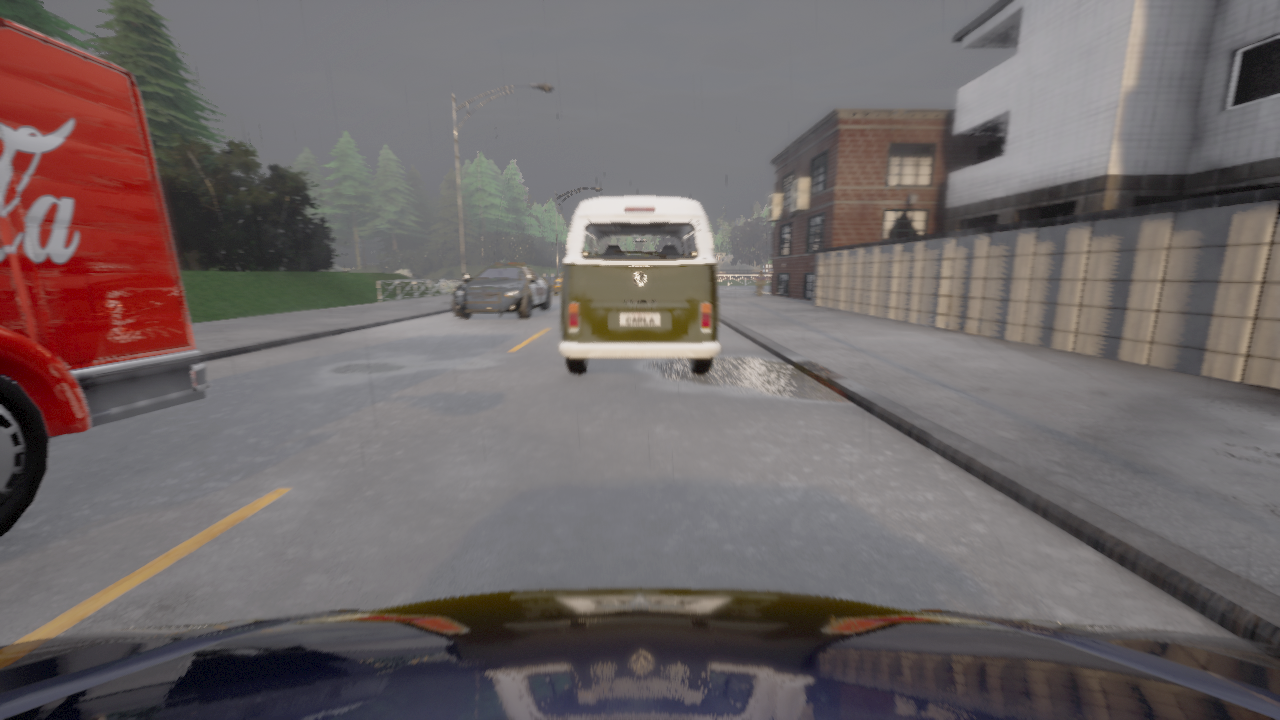cyclist: (0, 588, 1279, 719), (559, 196, 720, 373), (452, 262, 551, 317), (553, 272, 562, 294)
pedestrian: (756, 272, 764, 295)
